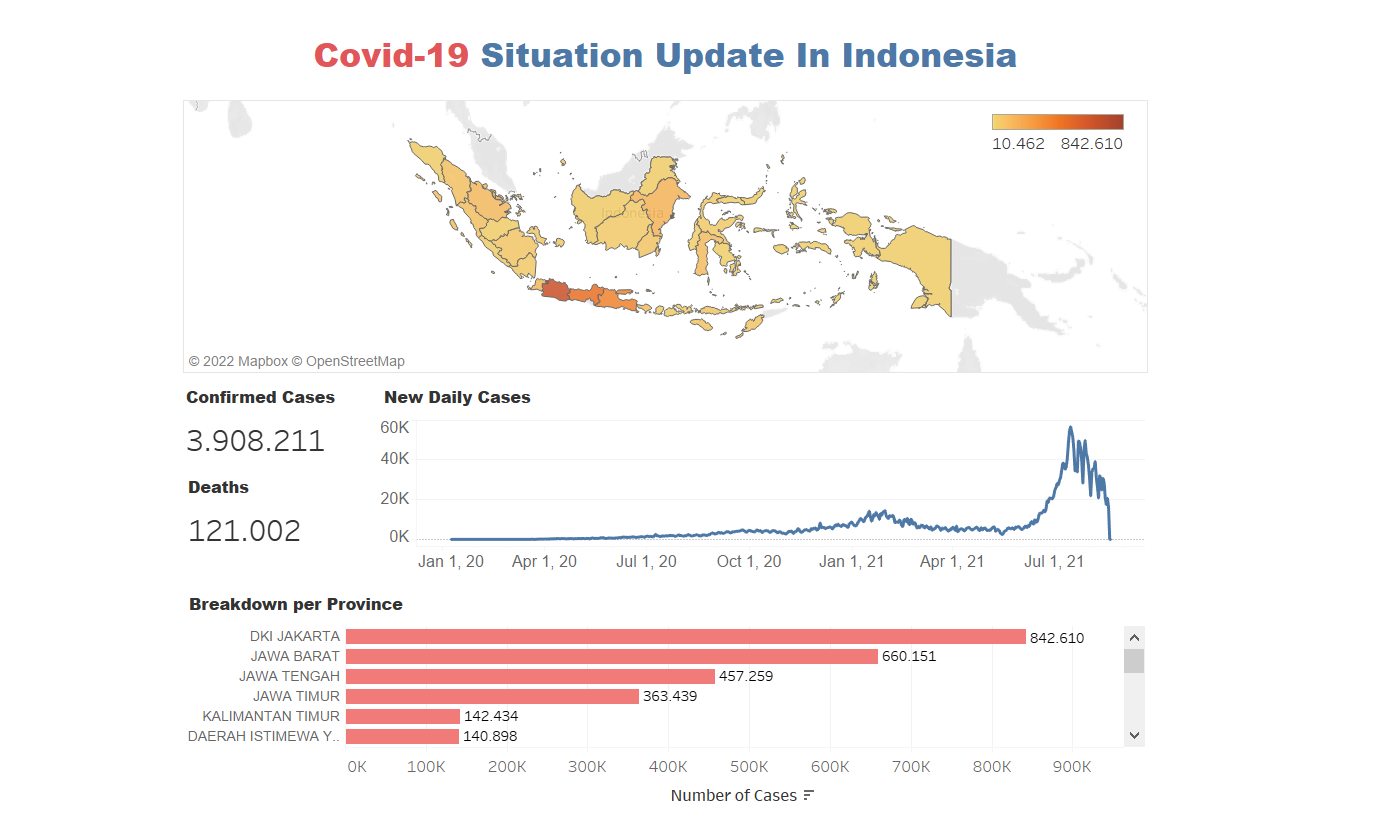

Layout of this report page (visuals, bound fields, positions):
{"tool":"tableau","page":{"name":"Dashboard","canvas":[1000,800],"ordinal":0},"visuals":[{"type":"text","box":[81,8,829,65]},{"type":"worksheet","title":"Map Distribution","mark":"Automatic","box":[13,86,965,273]},{"type":"legend","title":"Map Distribution","param":"[federated.1tzknav1yzwvp91bofyn81blffva].[sum:Daily_Case:qk]","box":[818,96,140,92]},{"type":"worksheet","title":"Confirmed Cases","mark":"Automatic","box":[12,367,215,126]},{"type":"worksheet","title":"New Daily Cases","mark":"Automatic","rows":["Daily_Case"],"cols":["Date"],"box":[210,367,765,195]},{"type":"worksheet","title":"Deaths","mark":"Automatic","box":[14,457,157,90]},{"type":"worksheet","title":"Breakdown per Province","mark":"Automatic","rows":["Province"],"cols":["Daily_Case"],"box":[15,574,960,225]}]}

Visuals, with their boxes on the page's 1000x800 design canvas (x1, y1, x2, y2). These are canvas units, not pixel positions in the 1389x813 screenshot, which may show the page scaled, cropped or inside an application window:
text: (left=81, top=8, right=910, bottom=73)
"Map Distribution" worksheet: (left=13, top=86, right=978, bottom=359)
"Map Distribution" legend: (left=818, top=96, right=958, bottom=188)
"Confirmed Cases" worksheet: (left=12, top=367, right=227, bottom=493)
"New Daily Cases" worksheet: (left=210, top=367, right=975, bottom=562)
"Deaths" worksheet: (left=14, top=457, right=171, bottom=547)
"Breakdown per Province" worksheet: (left=15, top=574, right=975, bottom=799)
